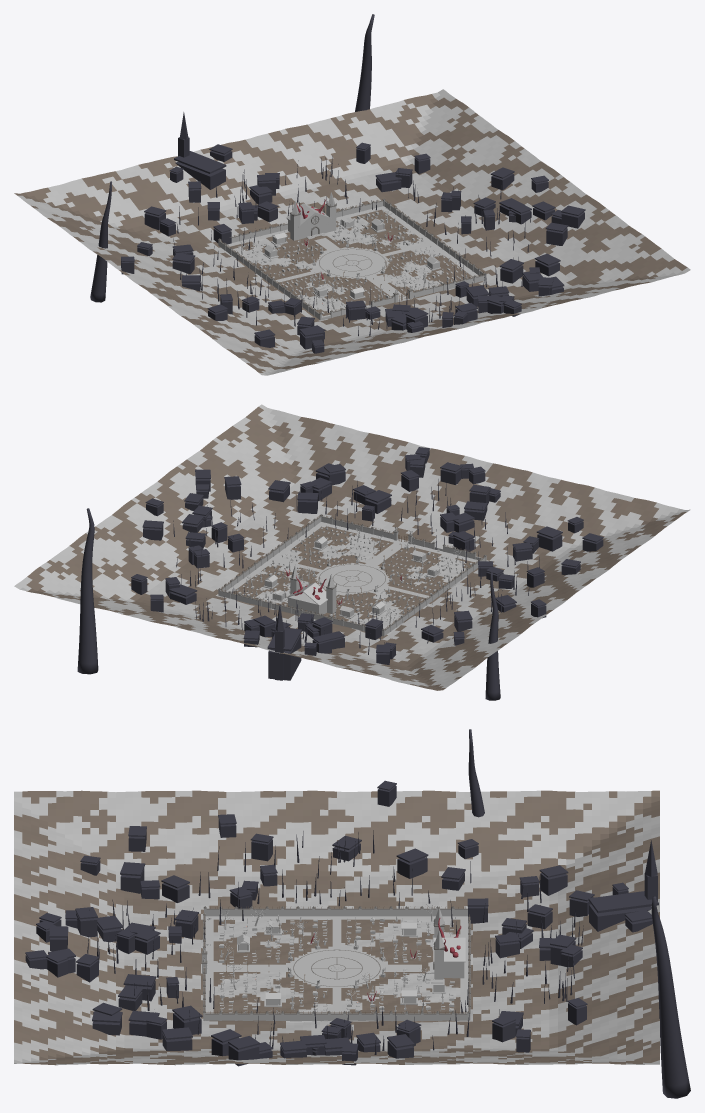
File: cemiterio.glb
3 views of the same model, one above another, from view 1: azimuth 30°, elevation 25°; view 2: azimuth 150°, elevation 25°; view 3: azimuth 270°, elevation 25° (orthographic). The views are drawn at different scales.
Visible parts, largest first — view 1: SM_cem_longe_silhueta, SM_cem_fora_1_-2_grama, SM_cem_fora_0_-2_grama, SM_cem_fora_1_-2_terra, SM_cem_fora_0_-2_terra, SM_cem_fora_1_-1_grama, SM_cem_fora_-2_-2_grama, SM_cem_fora_-2_-2_terra, SM_cem_fora_1_0_terra, SM_cem_fora_-1_-2_grama, SM_cem_fora_-1_-2_terra, SM_cem_fora_1_0_grama (+25 smaller); view 2: SM_cem_longe_silhueta, SM_cem_fora_1_1_grama, SM_cem_fora_1_1_terra, SM_cem_fora_0_1_terra, SM_cem_fora_-1_1_terra, SM_cem_fora_1_0_terra, SM_cem_fora_1_-1_terra, SM_cem_fora_-1_1_grama, SM_cem_fora_1_-1_grama, SM_cem_fora_-2_1_grama, SM_cem_fora_0_1_grama, SM_cem_colosso_silhueta (+33 smaller); view 3: SM_cem_longe_silhueta, SM_cem_fora_-2_0_terra, SM_cem_fora_-2_-1_grama, SM_cem_fora_-2_0_grama, SM_cem_fora_-2_-2_grama, SM_cem_fora_-2_-1_terra, SM_cem_fora_-2_-2_terra, SM_cem_fora_-2_1_grama, SM_cem_fora_-2_1_terra, SM_cem_fora_0_-2_grama, SM_cem_fora_0_-2_terra, SM_cem_fora_-1_1_terra (+44 smaller).
Part boxes in pixels (<box>): SM_cem_longe_silhueta: <box>121,112,585,353</box>; SM_cem_fora_1_-2_grama: <box>336,89,498,187</box>; SM_cem_fora_0_-2_grama: <box>235,118,395,214</box>; SM_cem_fora_1_-2_terra: <box>339,94,504,177</box>; SM_cem_fora_0_-2_terra: <box>229,117,391,208</box>; SM_cem_fora_1_-1_grama: <box>398,137,563,230</box>; SM_cem_fora_-2_-2_grama: <box>18,170,179,246</box>; SM_cem_fora_-2_-2_terra: <box>14,171,182,245</box>; SM_cem_fora_1_0_terra: <box>460,180,622,279</box>; SM_cem_fora_-1_-2_grama: <box>121,150,288,236</box>; SM_cem_fora_-1_-2_terra: <box>128,143,286,241</box>; SM_cem_fora_1_0_grama: <box>463,182,628,272</box>; SM_cem_longe_silhueta: <box>131,447,603,680</box>; SM_cem_fora_1_1_grama: <box>212,404,368,499</box>; SM_cem_fora_1_1_terra: <box>200,406,355,501</box>; SM_cem_fora_0_1_terra: <box>319,433,466,528</box>; SM_cem_fora_-1_1_terra: <box>415,463,583,555</box>; SM_cem_fora_1_0_terra: <box>138,454,297,549</box>; SM_cem_fora_1_-1_terra: <box>76,495,244,588</box>; SM_cem_fora_-1_1_grama: <box>424,459,573,553</box>; SM_cem_fora_1_-1_grama: <box>82,497,234,589</box>; SM_cem_fora_-2_1_grama: <box>532,487,690,561</box>; SM_cem_fora_0_1_grama: <box>318,441,475,531</box>; SM_cem_colosso_silhueta: <box>77,508,500,700</box>; SM_cem_longe_silhueta: <box>25,780,658,1066</box>; SM_cem_fora_-2_0_terra: <box>175,790,336,897</box>; SM_cem_fora_-2_-1_grama: <box>337,791,498,897</box>; SM_cem_fora_-2_0_grama: <box>175,791,336,897</box>; SM_cem_fora_-2_-2_grama: <box>498,790,659,896</box>; SM_cem_fora_-2_-1_terra: <box>337,790,498,897</box>; SM_cem_fora_-2_-2_terra: <box>498,790,659,897</box>; SM_cem_fora_-2_1_grama: <box>14,791,175,897</box>; SM_cem_fora_-2_1_terra: <box>14,790,175,895</box>; SM_cem_fora_0_-2_grama: <box>498,935,658,1031</box>; SM_cem_fora_0_-2_terra: <box>498,932,658,1031</box>; SM_cem_fora_-1_1_terra: <box>14,861,175,966</box>.
Size of what is drawn, in the model's own units: 304 by 105 by 319.
